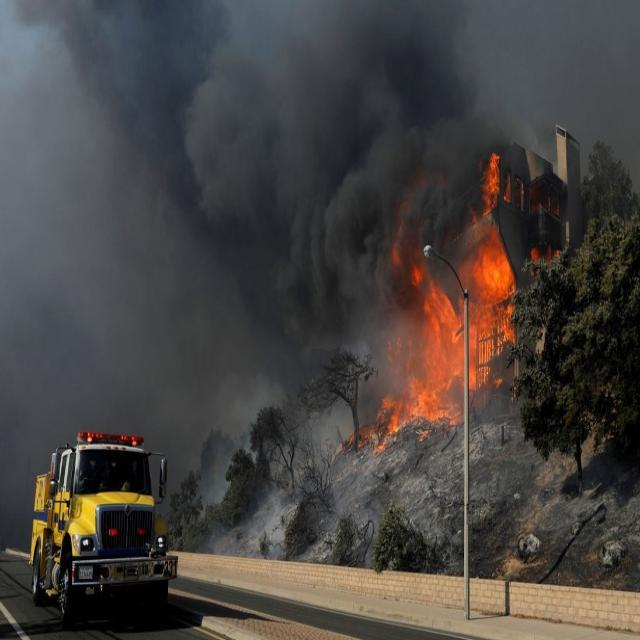Fire: (376, 281, 464, 452), (470, 232, 514, 396), (486, 150, 504, 220)
Smoke: (2, 4, 206, 429), (208, 10, 466, 278), (210, 284, 374, 434)
